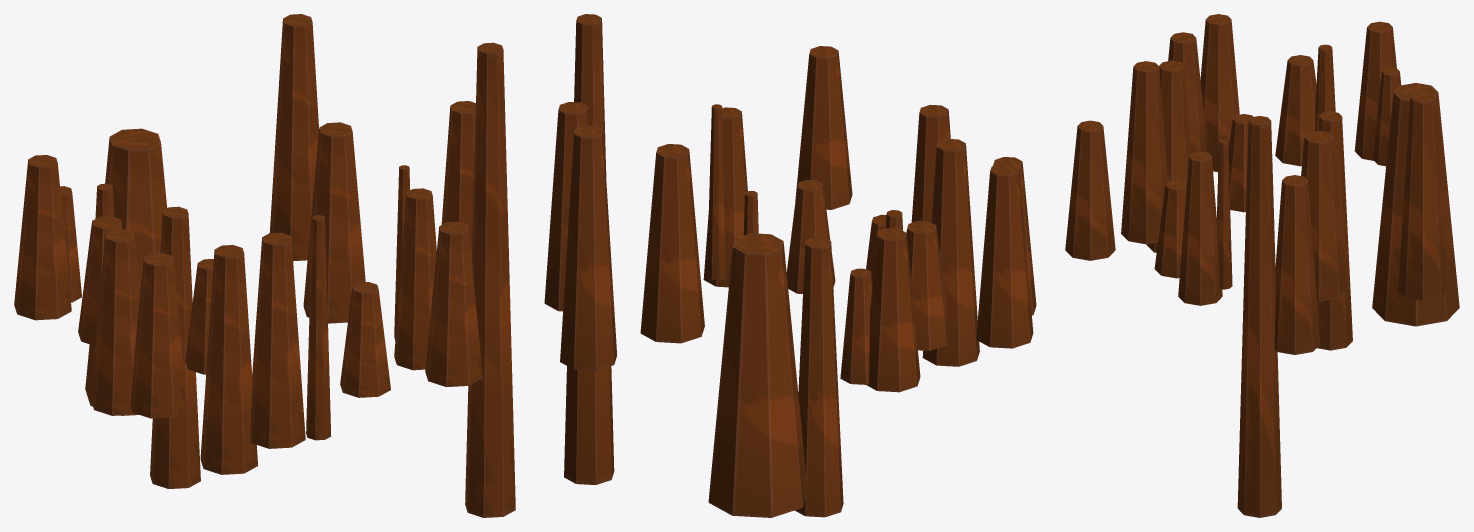
Rendered from Mountain01.glb.
3 renders of one model, left to right at view 1: azimuth 30°, elevation 25°; view 2: azimuth 150°, elevation 25°; view 3: azimuth 270°, elevation 25°, orthographic. The views are drawn at different scales.
Visible parts, largest first — view 1: Boulders; view 2: Boulders; view 3: Boulders.
Part boxes in pixels (x1,y1,x2,y2): Boulders: [14, 14, 515, 517]; Boulders: [544, 14, 1036, 517]; Boulders: [1065, 14, 1459, 517].
Size of the model in its own units: 127 by 125 by 116.
Materials: 1 (1 with a texture image).
